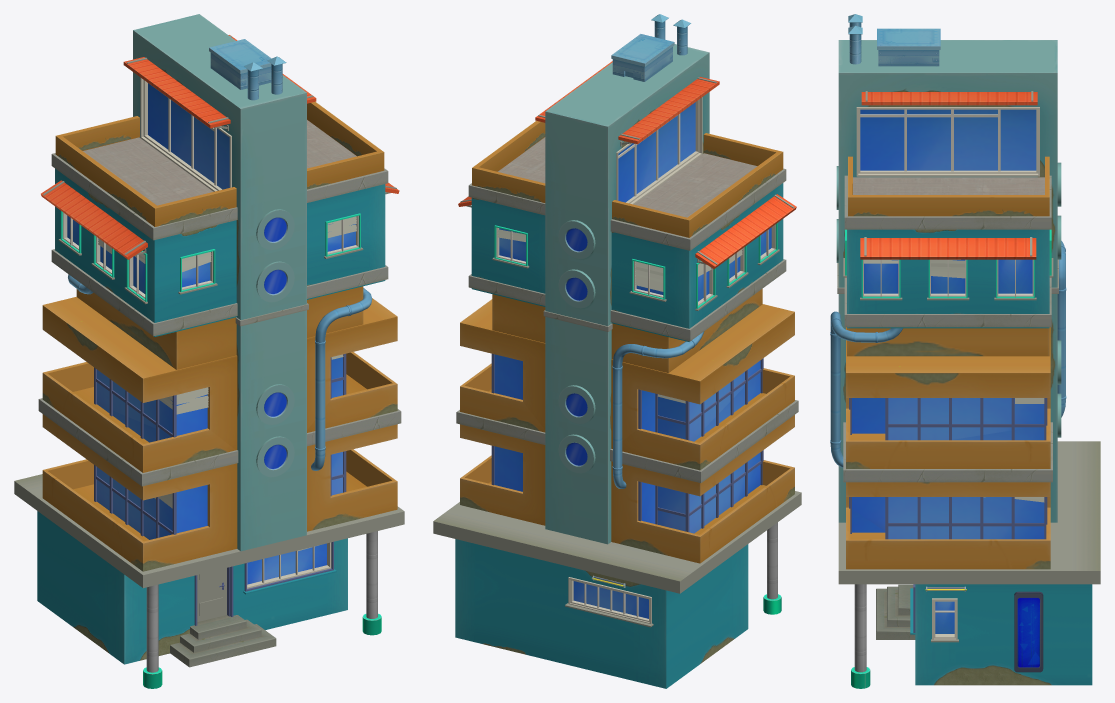
The model's file is Building_06_2.fbx.
3 renders of one model, left to right at view 1: azimuth 30°, elevation 25°; view 2: azimuth 150°, elevation 25°; view 3: azimuth 270°, elevation 25°, orthographic. The views are drawn at different scales.
Visible parts, largest first — view 1: polySurface3187; view 2: polySurface3187; view 3: polySurface3187.
Part boxes in pixels (box(x1,y1,x2,y2)): polySurface3187: box(14, 14, 404, 688); polySurface3187: box(433, 14, 801, 688); polySurface3187: box(830, 14, 1100, 688).
Size of the model in its own units: 980 by 2065 by 829.
